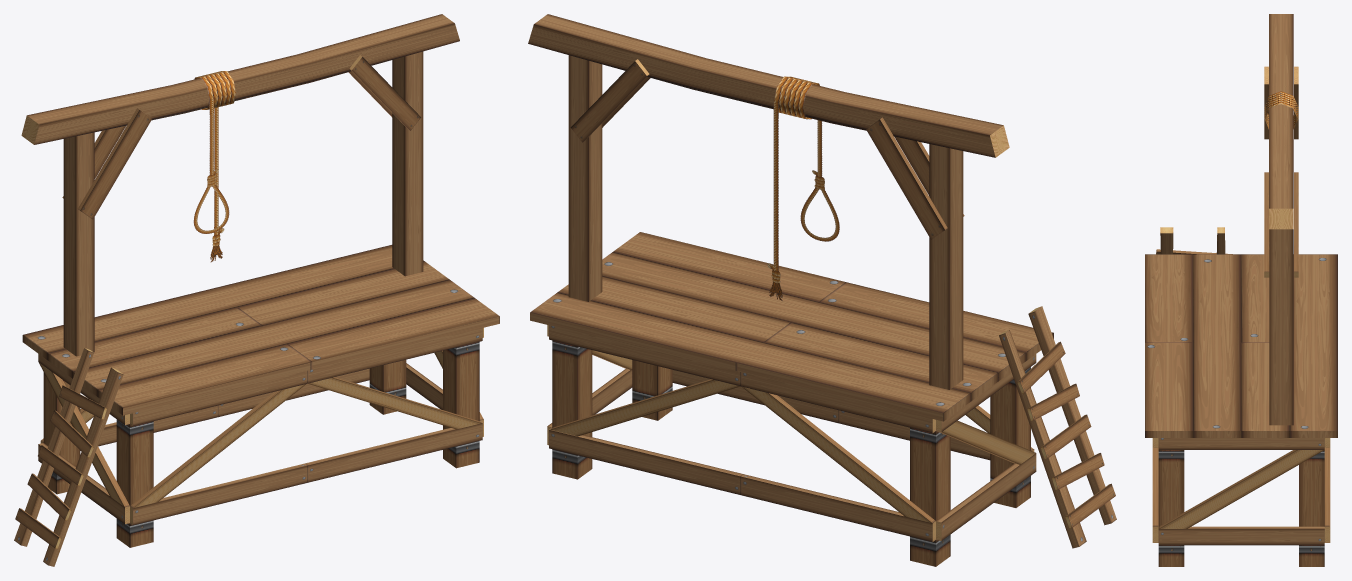
File: Gallows_02.FBX
The picture shows the model from 3 angles, left to right: view 1: azimuth 30°, elevation 25°; view 2: azimuth 150°, elevation 25°; view 3: azimuth 270°, elevation 25°; orthographic projection. The views are drawn at different scales.
Parts seen in each view (by area): view 1: Base, Stool, Rope; view 2: Base, Stool, Rope; view 3: Base, Stool, Rope.
Part boxes in pixels (x1,y1,x2,y2): Base: (21,14,499,547); Stool: (14,348,123,566); Rope: (193,71,235,262); Base: (528,14,1053,566); Stool: (999,306,1116,548); Rope: (767,76,839,300); Base: (1145,14,1337,566); Stool: (1156,227,1232,254); Rope: (1264,91,1298,129).
Size of the model in its own units: 6.72 by 5.4 by 2.5.
